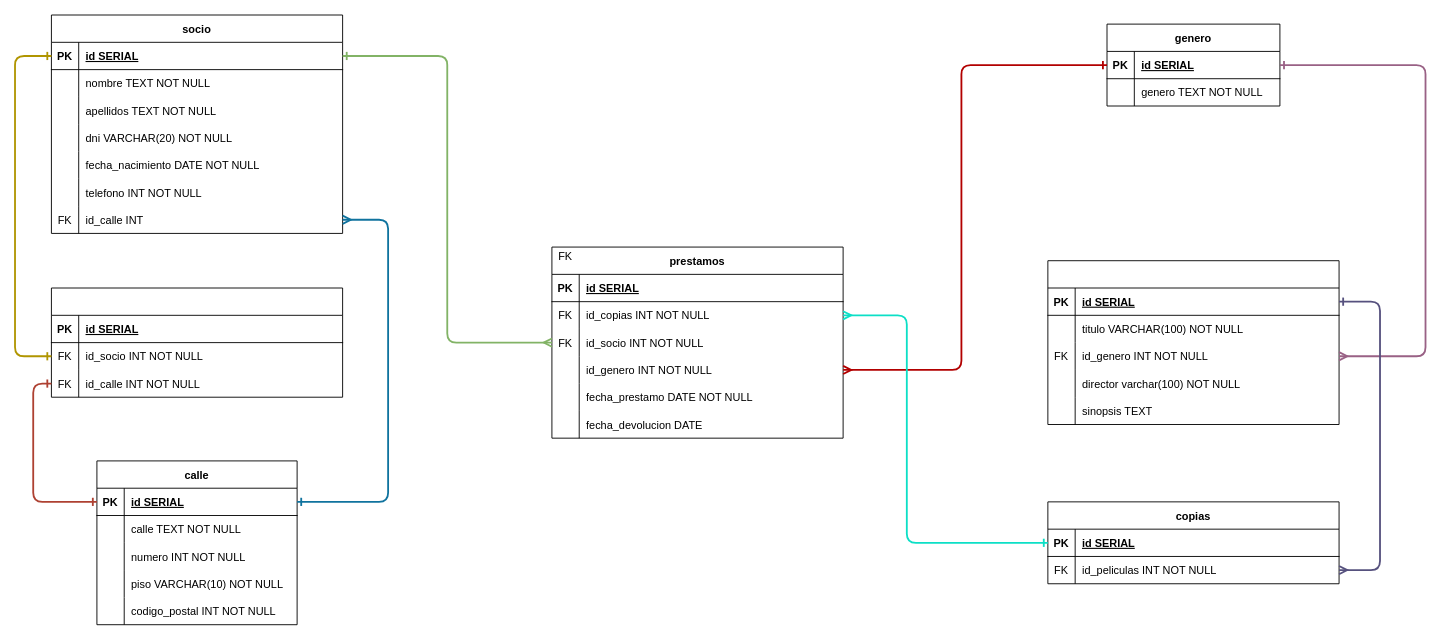
Image size: 1441x640. Some labels were removed from this diagram. Here are the shapes that lost their labels. From the top down, the box of each, then its label:
(51, 287, 343, 397): direccion
(1047, 260, 1339, 425): peliculas
